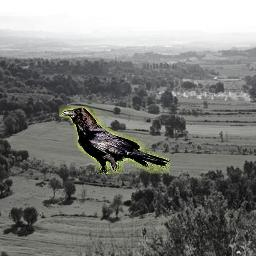Crow: (59, 106, 170, 174)
